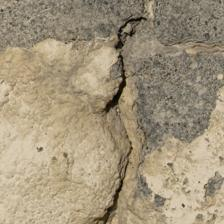Crack: (2, 8, 98, 86), (48, 13, 104, 124)
